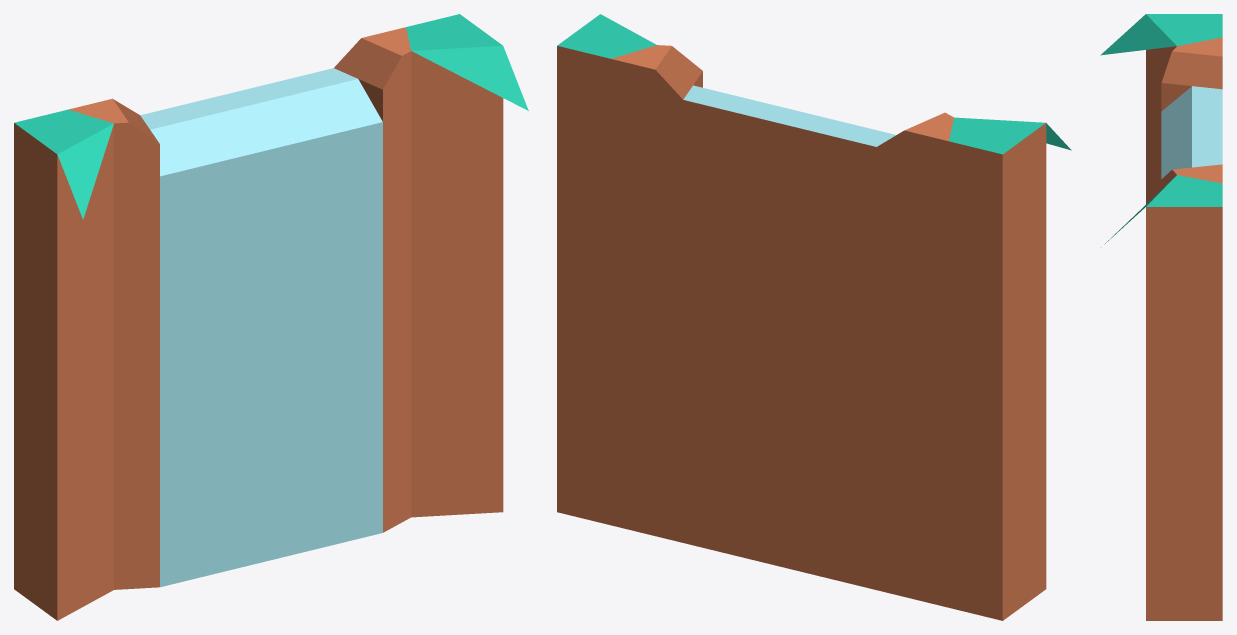
File: cliff_waterfallTop_rock.fbx
3 views of the same model, side by side, from view 1: azimuth 30°, elevation 25°; view 2: azimuth 150°, elevation 25°; view 3: azimuth 270°, elevation 25° (orthographic). The views are drawn at different scales.
Visible parts, largest first — view 1: cliff_waterfallTop_rock; view 2: cliff_waterfallTop_rock; view 3: cliff_waterfallTop_rock.
Part boxes in pixels (x1,y1,x2,y2): cliff_waterfallTop_rock: (14,14,528,620); cliff_waterfallTop_rock: (557,14,1071,620); cliff_waterfallTop_rock: (1100,14,1222,620).
Bounding box in the file's own units: 10 × 10 × 2.68.
